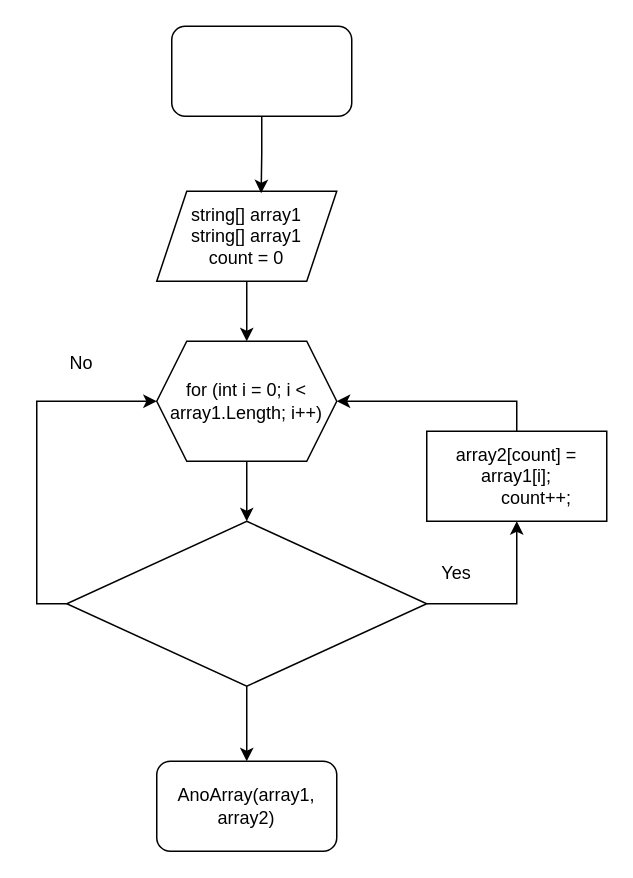
The diagram is 633 pixels wide and 878 high, and some of its shapes have lost their labels. Each missing label, with the box of its shape:
if(array1[i].Length <= 3): (65, 520, 427, 686)
новый массив из строк AnoArray: (170, 25, 352, 116)
